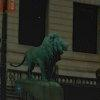Statue: (14, 24, 71, 84)
